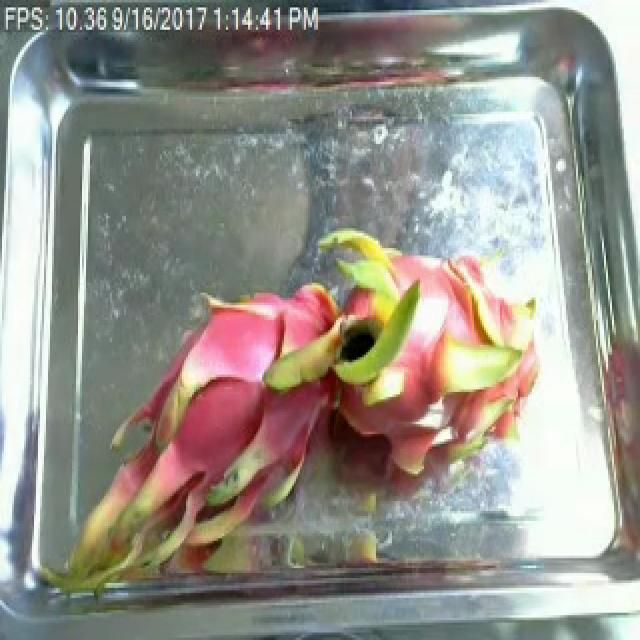Fruit: (428, 369, 510, 462)
